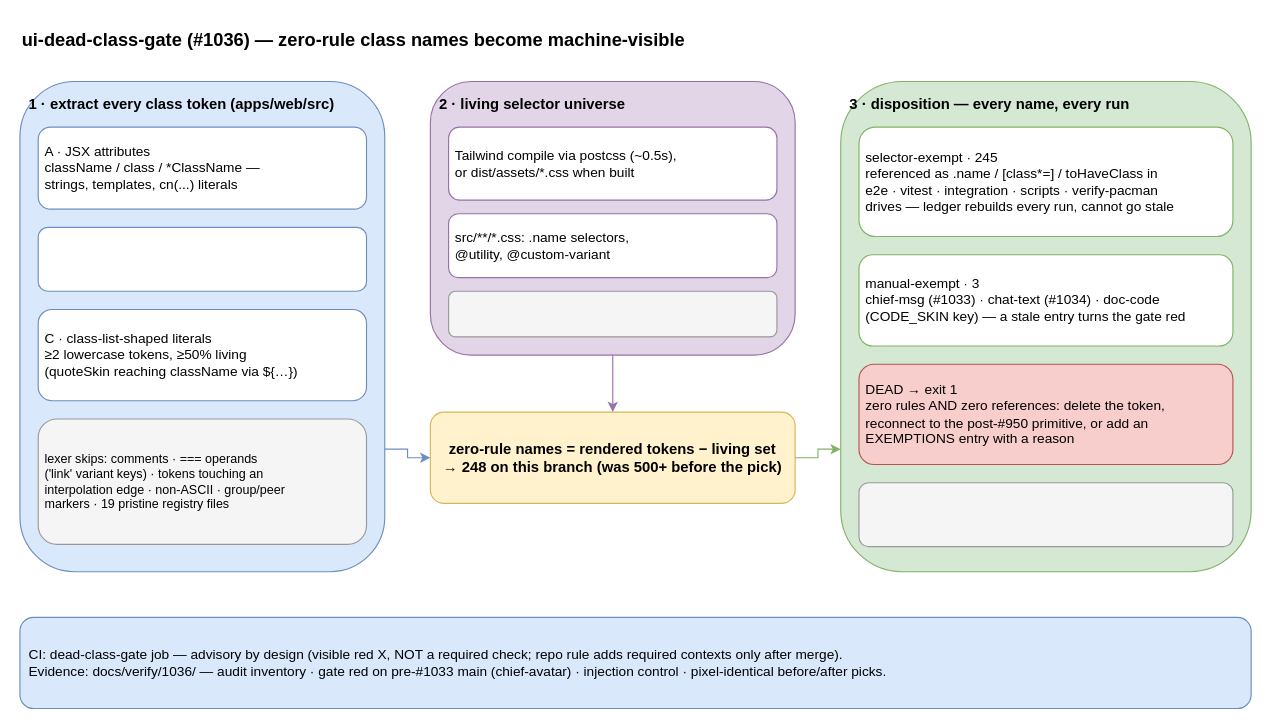
Some shapes in this 1271 by 728 pixel diagram are drawn without their labels. The shapes that lost their labels are listed below. From the top down, each one's centre as x and y in pixels, then its label:
At [202,258]: "B · *_CLS / *_CLASS constants (chief/recipes.ts pattern)".
At [612,313]: "= 1661 living selectors on this branch".
At [1045,514]: "fail-closed: shrunken scan or missing compiler → exit 2, never a silent pass".
